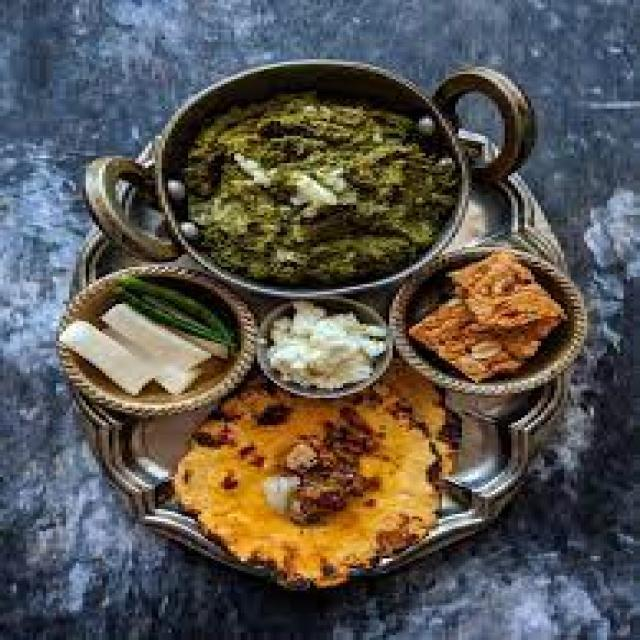roti: (169, 371, 451, 580)
sweet: (390, 239, 600, 391), (429, 66, 548, 181)
veg-fry: (160, 82, 448, 281)
